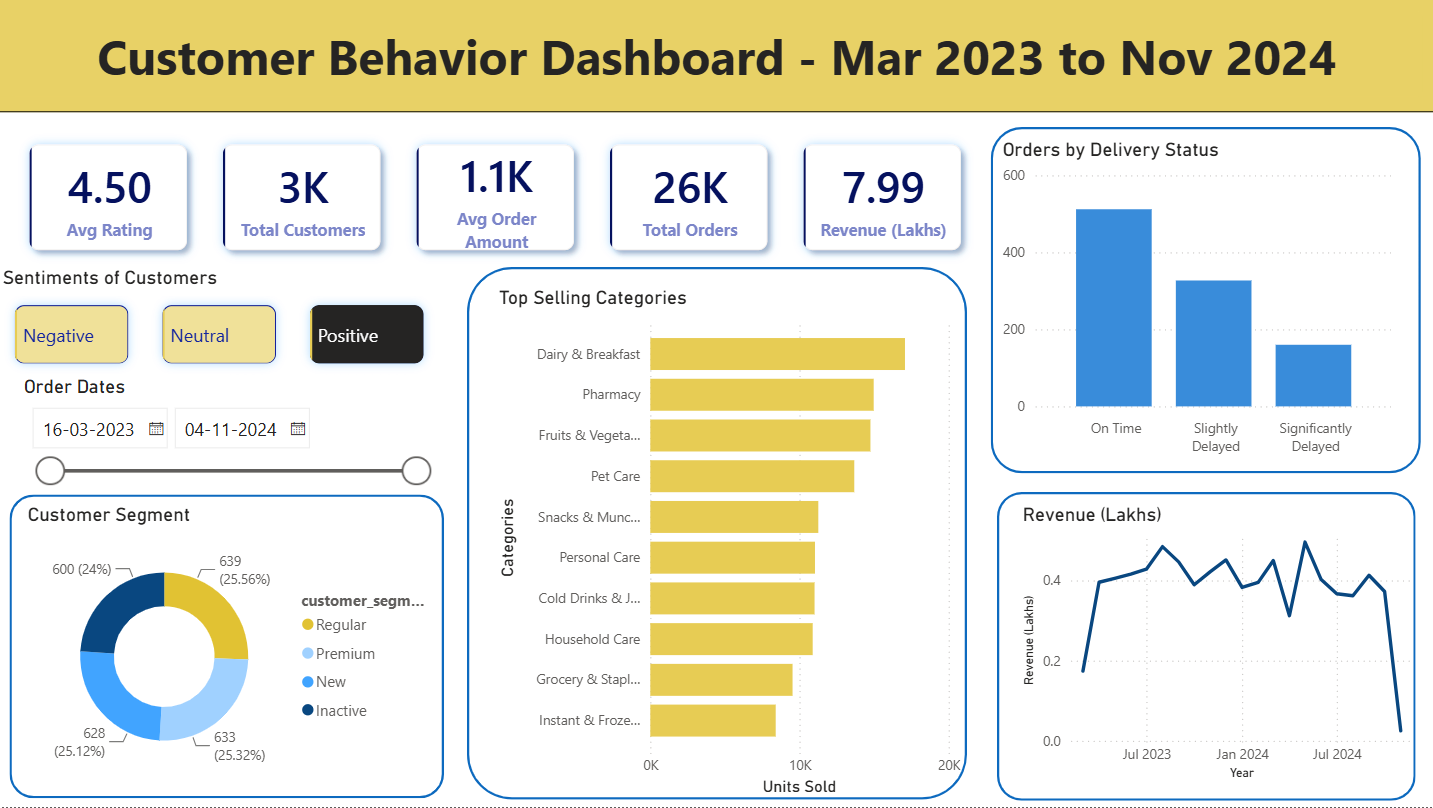

The page's visual inventory and layout, read from the dashboard file:
{"tool":"powerbi","page":{"name":"Page 1","canvas":[1280,720],"ordinal":0},"visuals":[{"type":"cardVisual","fields":{"Data":["public blinkit_customer_feedback.Average Review Rating","public blinkit_customers.Number Of Customers","public blinkit_customer_feedback.Avergae Purchase Amount","public blinkit_customer_feedback.Total Orders","public blinkit_customer_feedback.Revenue (Lakhs)"]},"box":[0,102.5,888.8,152.5],"z":0},{"type":"shape","box":[11.2,442.5,386.2,270],"z":1000},{"type":"donutChart","title":"Customer Segment","fields":{"Category":["public blinkit_customers.customer_segment"],"Y":["CountNonNull(public blinkit_customers.customer_segment)"]},"box":[22.5,450,366.2,253.8],"z":2000},{"type":"donutChart","title":"Payment Method of Orders","fields":{"Category":["public blinkit_orders.payment_method"],"Y":["CountNonNull(public blinkit_orders.payment_method)"]},"box":[905,135,375,251.2],"z":3000},{"type":"barChart","title":"Top Selling Categories","fields":{"Category":["public blinkit_products.category"],"Y":["Sum(public blinkit_products.price)"]},"box":[441.2,256.2,420,458.8],"z":4000},{"type":"clusteredColumnChart","title":"Delivery Status of Orders","fields":{"Category":["public blinkit_delivery_performance.delivery_status"],"Y":["CountNonNull(public blinkit_delivery_performance.rreasons_if_delayed)"]},"box":[900,413.8,358.8,290],"z":5000},{"type":"advancedSlicerVisual","title":"Sentiments of Customers","fields":{"Values":["public blinkit_customer_feedback.sentiment"]},"box":[0,238.8,397.5,103.8],"z":6000},{"type":"shape","box":[888.8,115,382.5,281.2],"z":7000},{"type":"shape","box":[888.8,405,382.5,307.5],"z":8000},{"type":"shape","box":[428.8,238.8,445,473.8],"z":9000},{"type":"slicer","title":"Order Dates","fields":{"Values":["public blinkit_orders.order_date"]},"box":[18.8,335,375,103.8],"z":10000},{"type":"cardVisual","fields":{"Data":["public blinkit_customer_feedback.Dashboard Title"]},"box":[0,0,1280,102.5],"z":11000}]}

Visuals, with their boxes in screenshot pixels (x1, y1, x2, y2), scaled from the page's 1280x720 canvas onto the 1433x808 screenshot:
cardVisual - public blinkit_customer_feedback.Average Review Rating x public blinkit_customers.Number Of Customers: box(0, 115, 995, 286)
shape: box(13, 497, 445, 800)
"Customer Segment" donutChart: box(25, 505, 435, 790)
"Payment Method of Orders" donutChart: box(1013, 152, 1432, 433)
"Top Selling Categories" barChart: box(494, 288, 964, 802)
"Delivery Status of Orders" clusteredColumnChart: box(1008, 464, 1409, 790)
"Sentiments of Customers" advancedSlicerVisual: box(0, 268, 445, 384)
shape: box(995, 129, 1423, 445)
shape: box(995, 454, 1423, 800)
shape: box(480, 268, 978, 800)
"Order Dates" slicer: box(21, 376, 441, 492)
cardVisual - public blinkit_customer_feedback.Dashboard Title: box(0, 0, 1432, 115)
